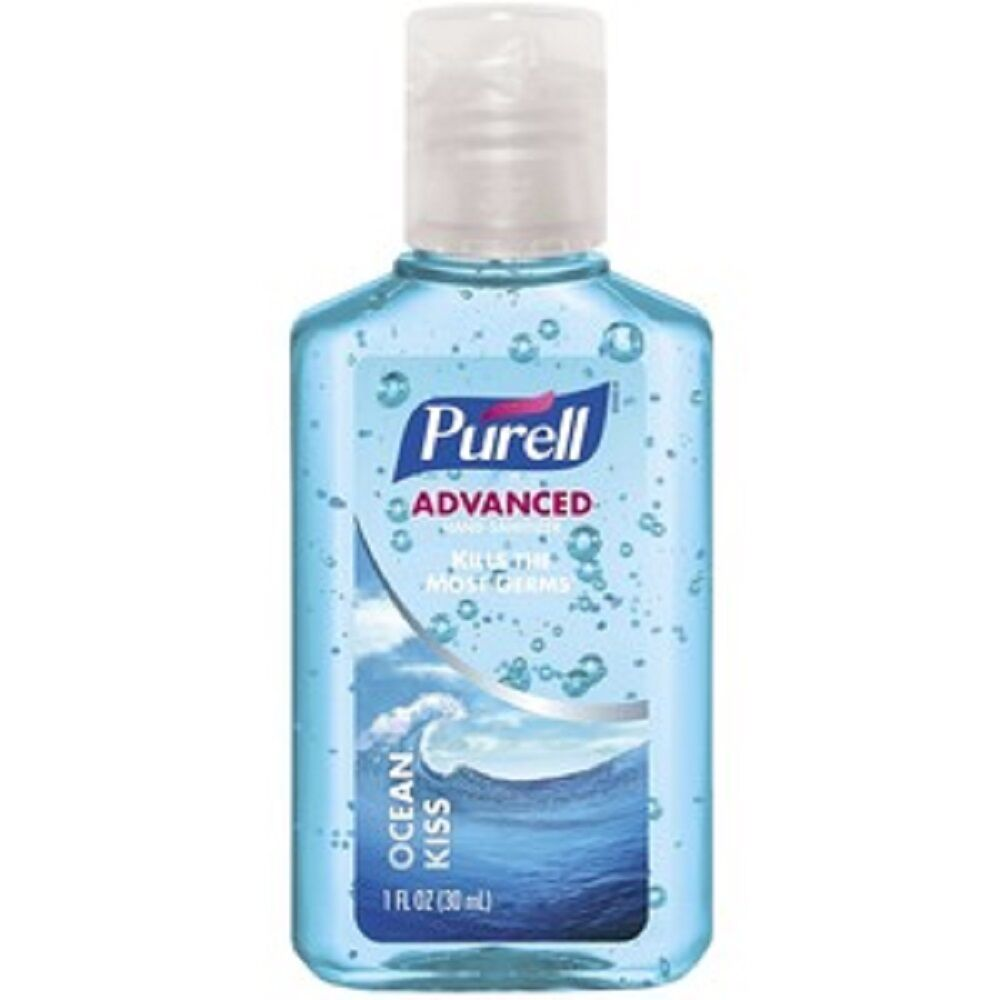Sanitizer: (283, 3, 722, 997)
